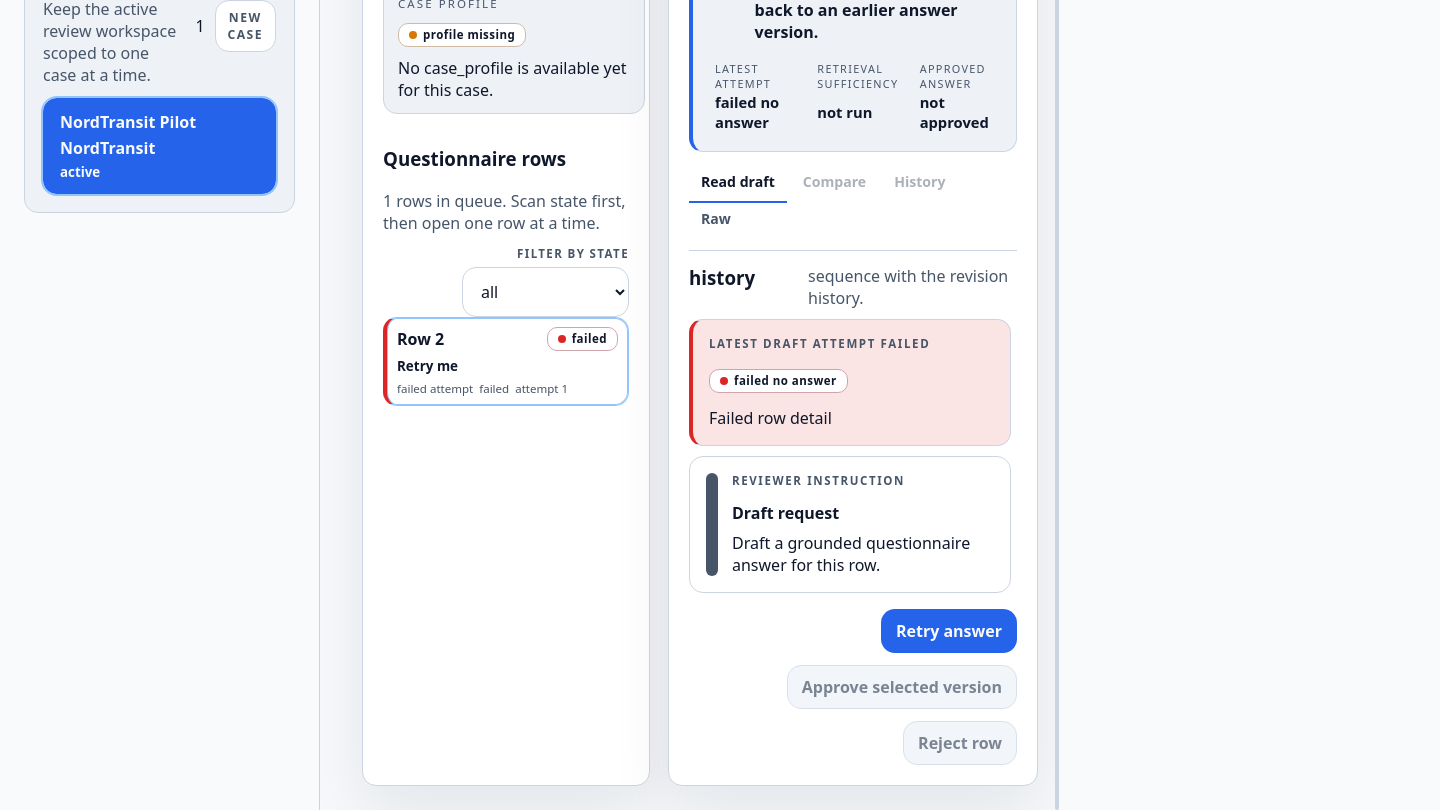
Test: App › retries a failed no-answer row with a fresh thread
(page scrolled)
What coordinates should you click on to do the following:
click the button "Retry answer"
I would click on:
 (949, 631)
Its box is left=881, top=609, right=1017, bottom=653.
(page scrolled)
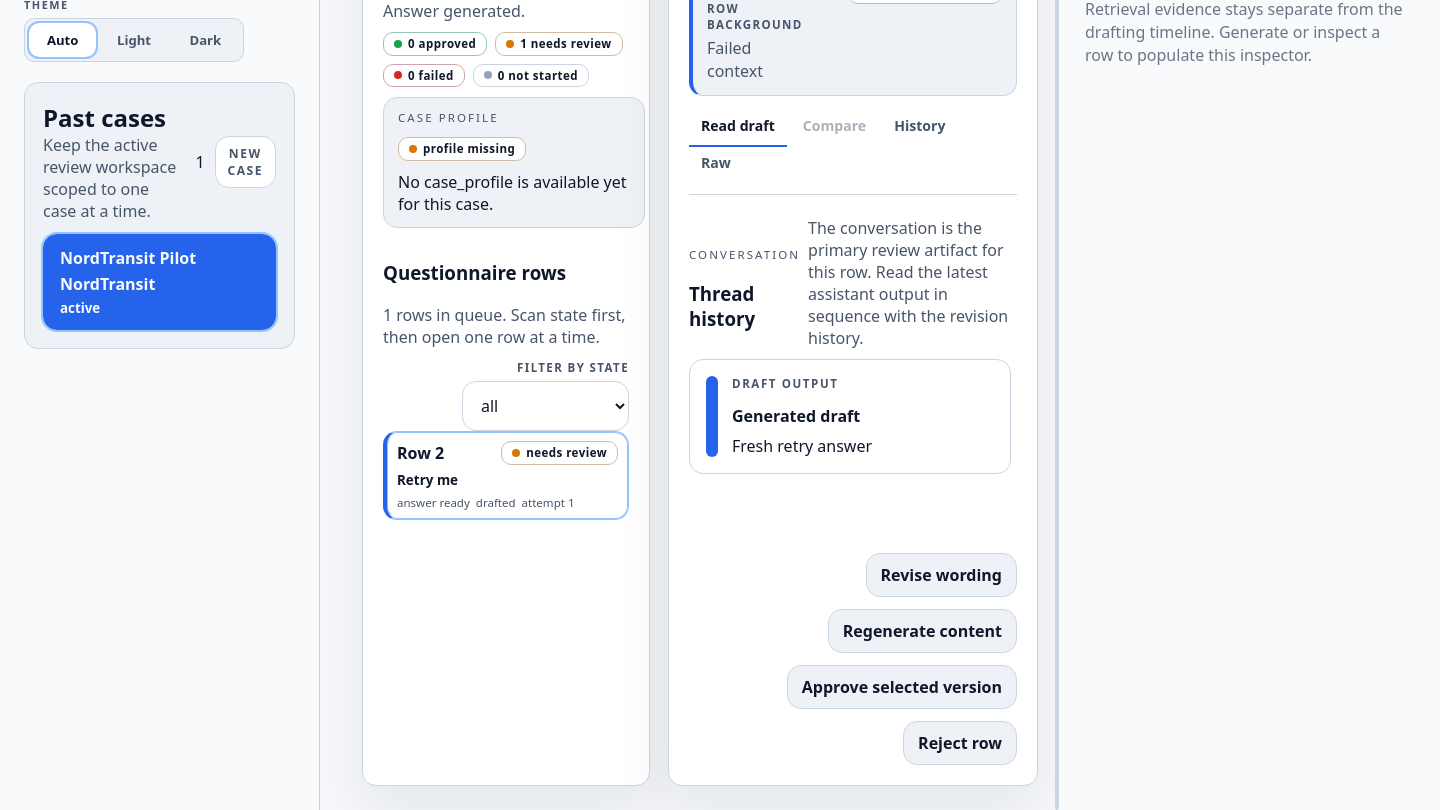
Check: the text "Fresh retry answer" is shown, box left=732, top=435, right=872, bottom=457
